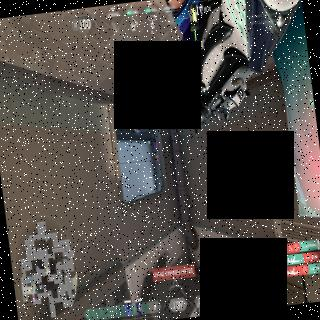ENEMY-BODY: (151, 128, 160, 168)
ENEMY-HEAD: (158, 160, 160, 167)
